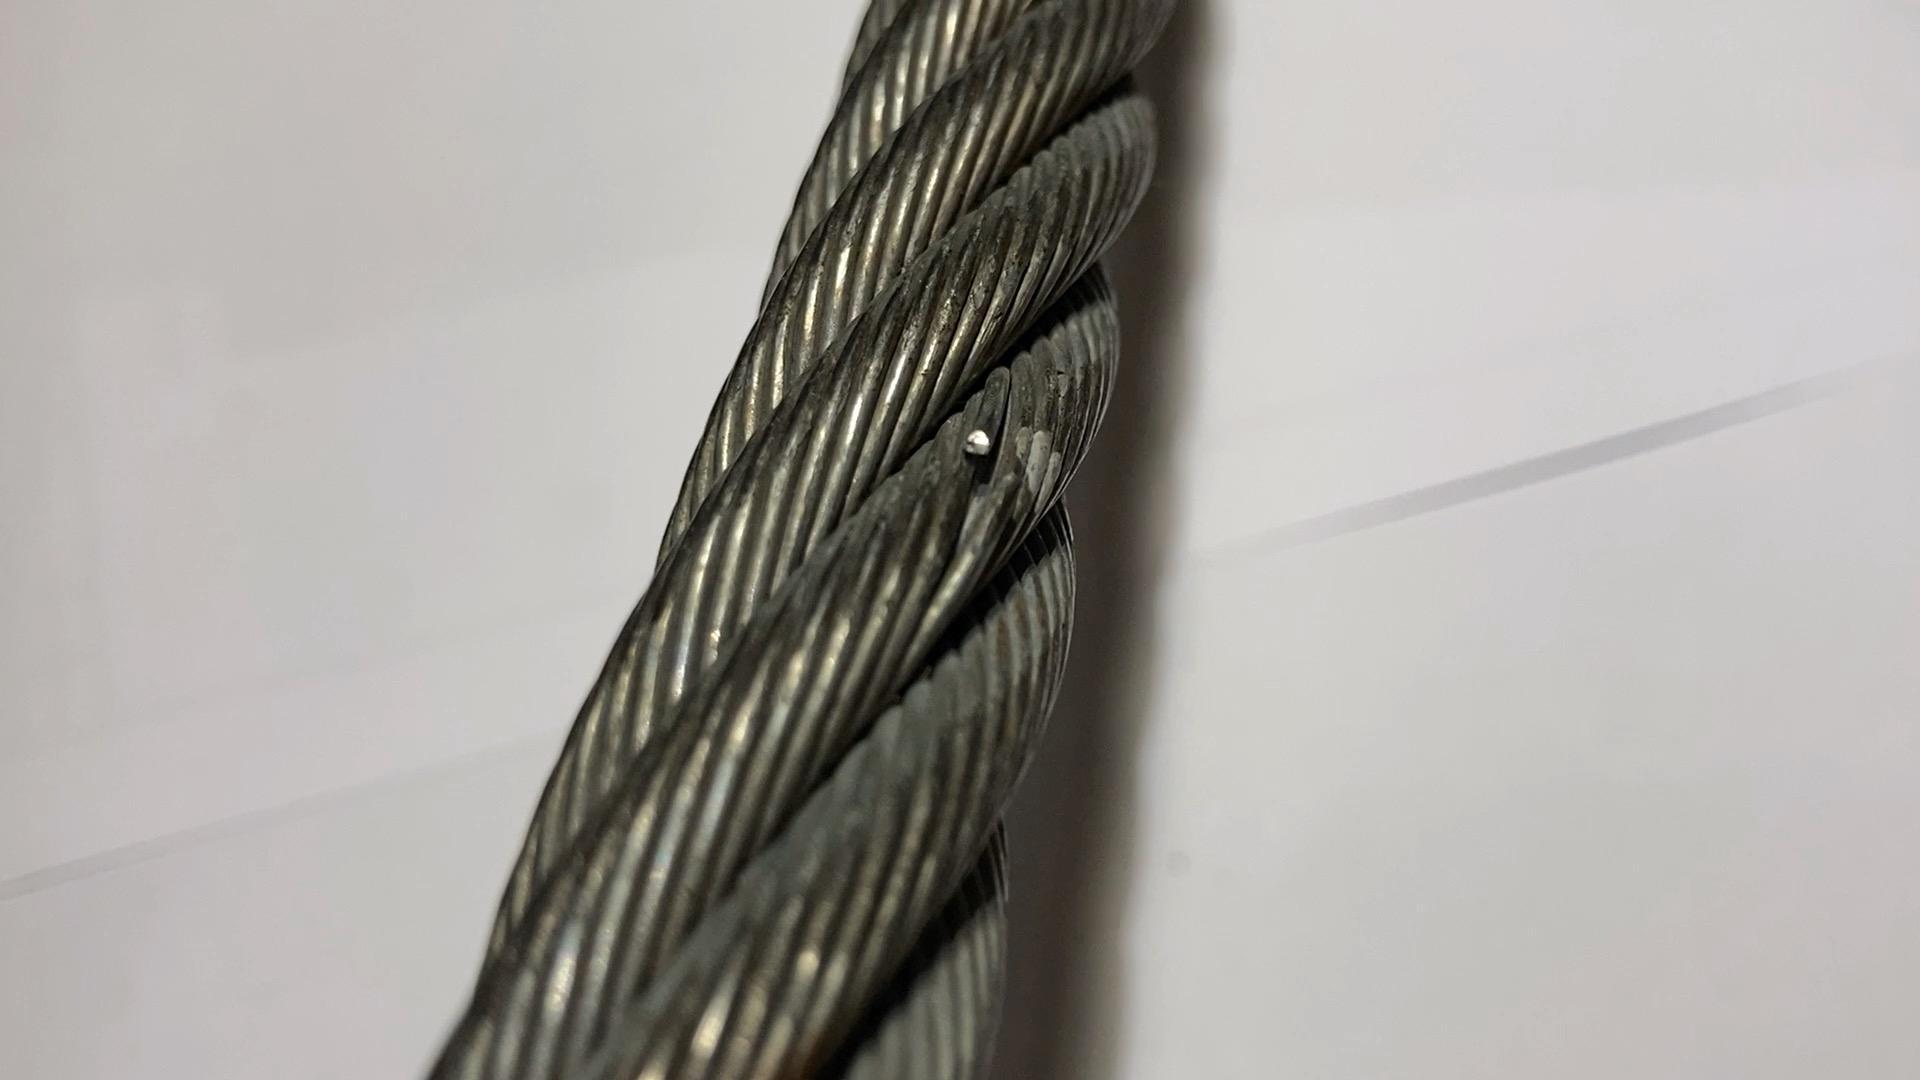break: (938, 400, 1054, 541)
